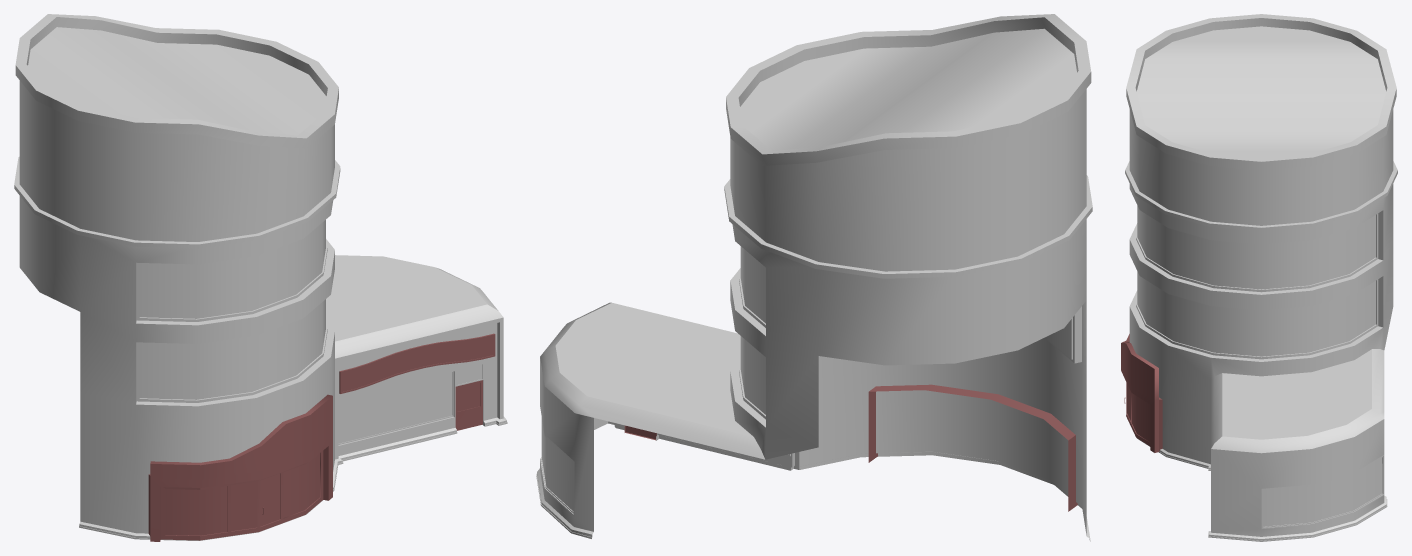
The model's file is Tienda_001.fbx.
3 renders of one model, left to right at view 1: azimuth 30°, elevation 25°; view 2: azimuth 150°, elevation 25°; view 3: azimuth 270°, elevation 25°, orthographic. The views are drawn at different scales.
Visible parts, largest first — view 1: polySurface1, polySurface9, polySurface8, pCube16, pPlane2; view 2: polySurface1, polySurface8; view 3: polySurface1, polySurface8, polySurface9.
Boxes of the visible parts, bbox=[...] form: polySurface1: bbox=[14, 14, 507, 540]; polySurface9: bbox=[160, 451, 323, 540]; polySurface8: bbox=[148, 394, 332, 541]; pCube16: bbox=[339, 333, 495, 393]; pPlane2: bbox=[455, 380, 482, 430]; polySurface1: bbox=[536, 14, 1092, 541]; polySurface8: bbox=[868, 384, 1077, 511]; polySurface1: bbox=[1125, 14, 1397, 541]; polySurface8: bbox=[1121, 334, 1162, 452]; polySurface9: bbox=[1126, 382, 1150, 446].
Bounding box in the file's own units: 32.49 × 28.69 × 20.79.
